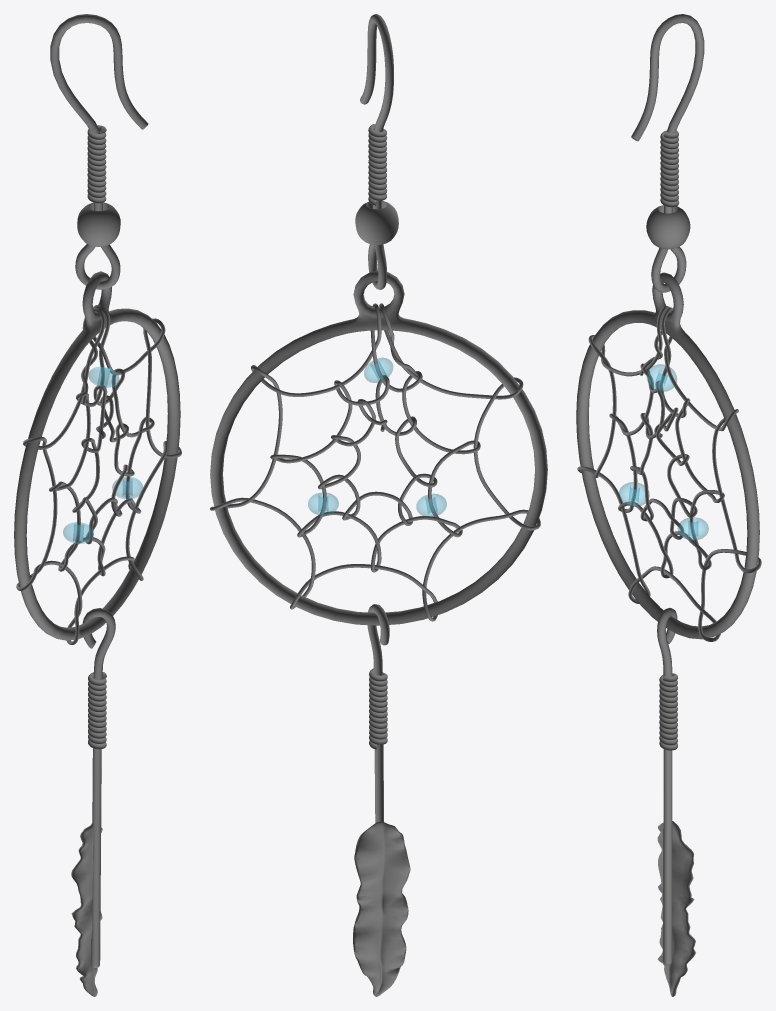
The picture shows the model from 3 angles, left to right: view 1: azimuth 30°, elevation 25°; view 2: azimuth 150°, elevation 25°; view 3: azimuth 270°, elevation 25°; orthographic projection.
Visible parts, largest first — view 1: 11762_Earrings_v1_l2; view 2: 11762_Earrings_v1_l2; view 3: 11762_Earrings_v1_l2.
Part boxes in pixels (x1,y1,x2,y2): 11762_Earrings_v1_l2: [14, 14, 181, 996]; 11762_Earrings_v1_l2: [210, 14, 547, 996]; 11762_Earrings_v1_l2: [576, 14, 761, 996].
Size of the model in its own units: 0.0142 by 0.0532 by 0.00915.
